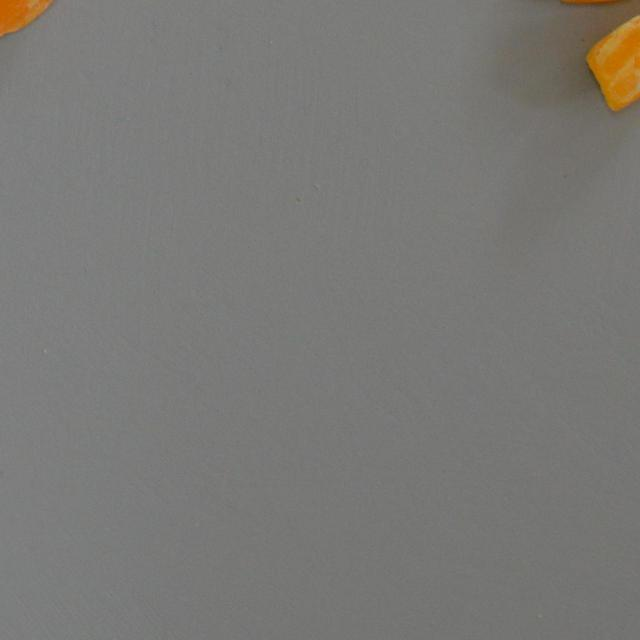pelicula: (584, 12, 640, 112), (0, 0, 68, 51)
